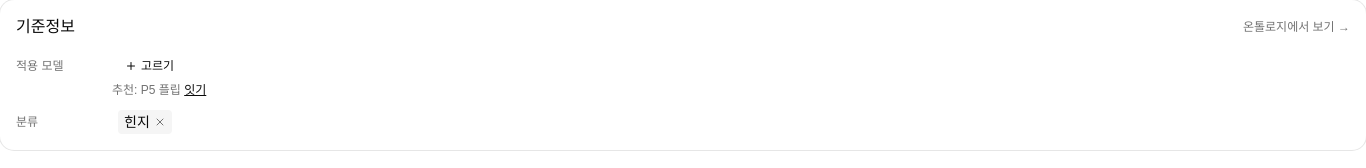
빼기는 그 선을 끊는다
Click the button named "분류에서 힌지 빼기" at (160, 122), box x1=154 y1=116 x2=166 y2=128
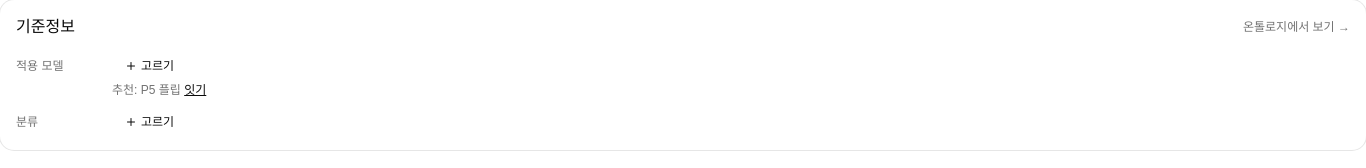
expect the link "힌지" is gone: met
